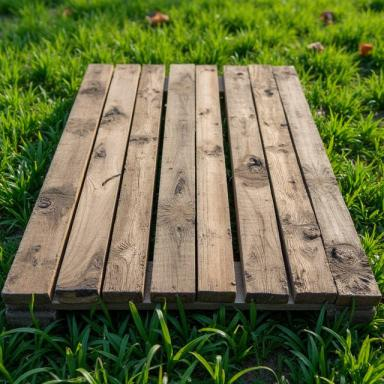pallet: (1, 63, 382, 342)
